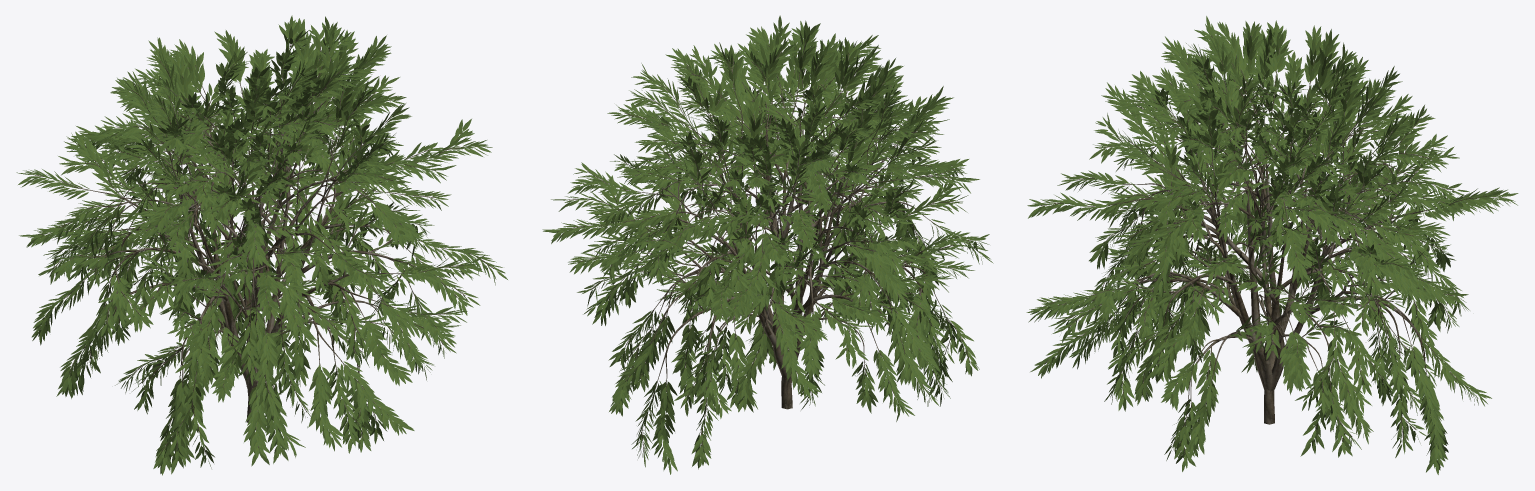
File: Bush(Large).fbx
3 renders of one model, left to right at view 1: azimuth 30°, elevation 25°; view 2: azimuth 150°, elevation 25°; view 3: azimuth 270°, elevation 25°, orthographic. The views are drawn at different scales.
Visible parts, largest first — view 1: Bush(Large); view 2: Bush(Large); view 3: Bush(Large).
Boxes of the visible parts, x1=… form: Bush(Large): x1=16, y1=15, x2=507, y2=475; Bush(Large): x1=542, y1=15, x2=993, y2=474; Bush(Large): x1=1026, y1=16, x2=1518, y2=474.
Bounding box in the file's own units: 220 × 216 × 238.
